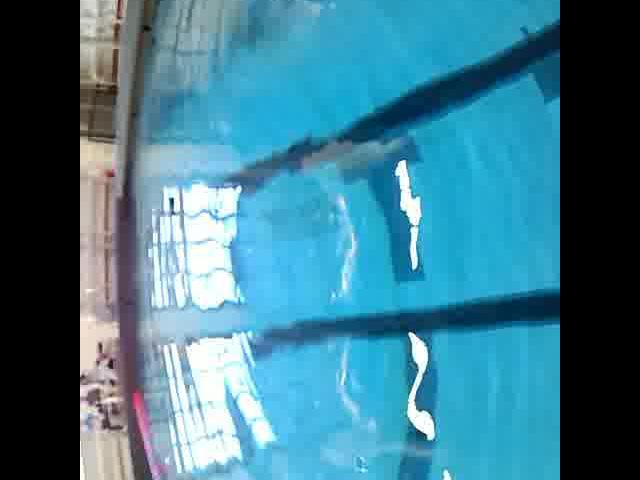CamMount: (164, 194, 180, 220)
